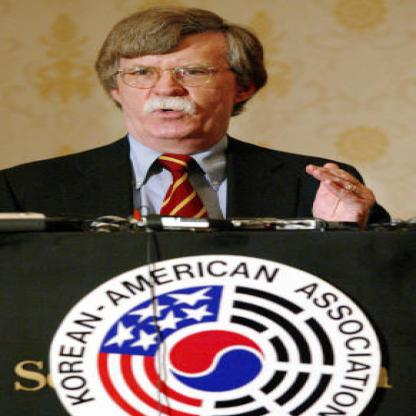face: (110, 14, 242, 141)
